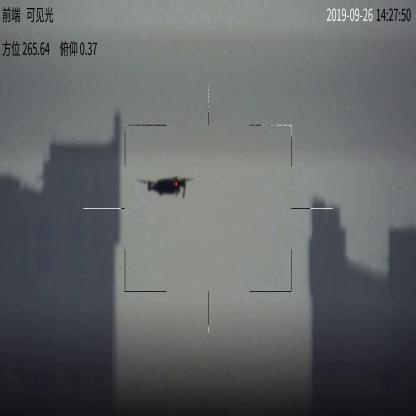uav: (136, 176, 194, 198)
